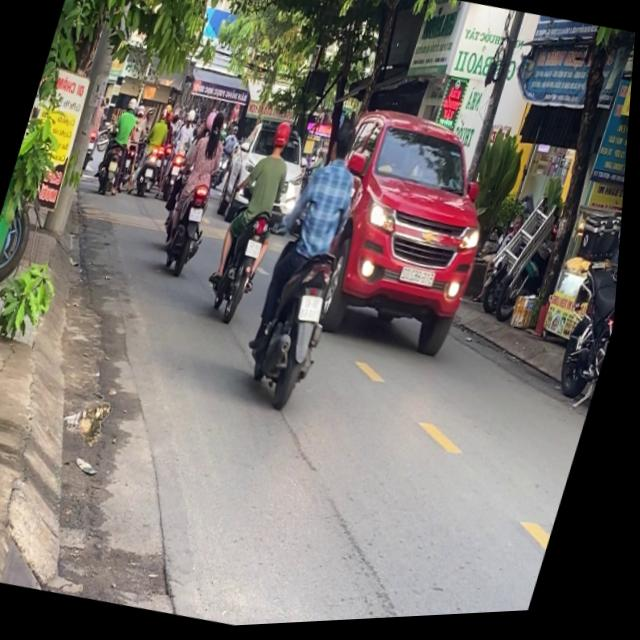helmet: (272, 121, 297, 159)
licenseplate: (236, 114, 392, 417), (203, 115, 312, 327), (154, 104, 244, 280)
motorcyclist: (330, 125, 363, 170), (208, 111, 231, 143)
nohelmet: (302, 296, 330, 327), (249, 241, 267, 261), (191, 208, 207, 225)
